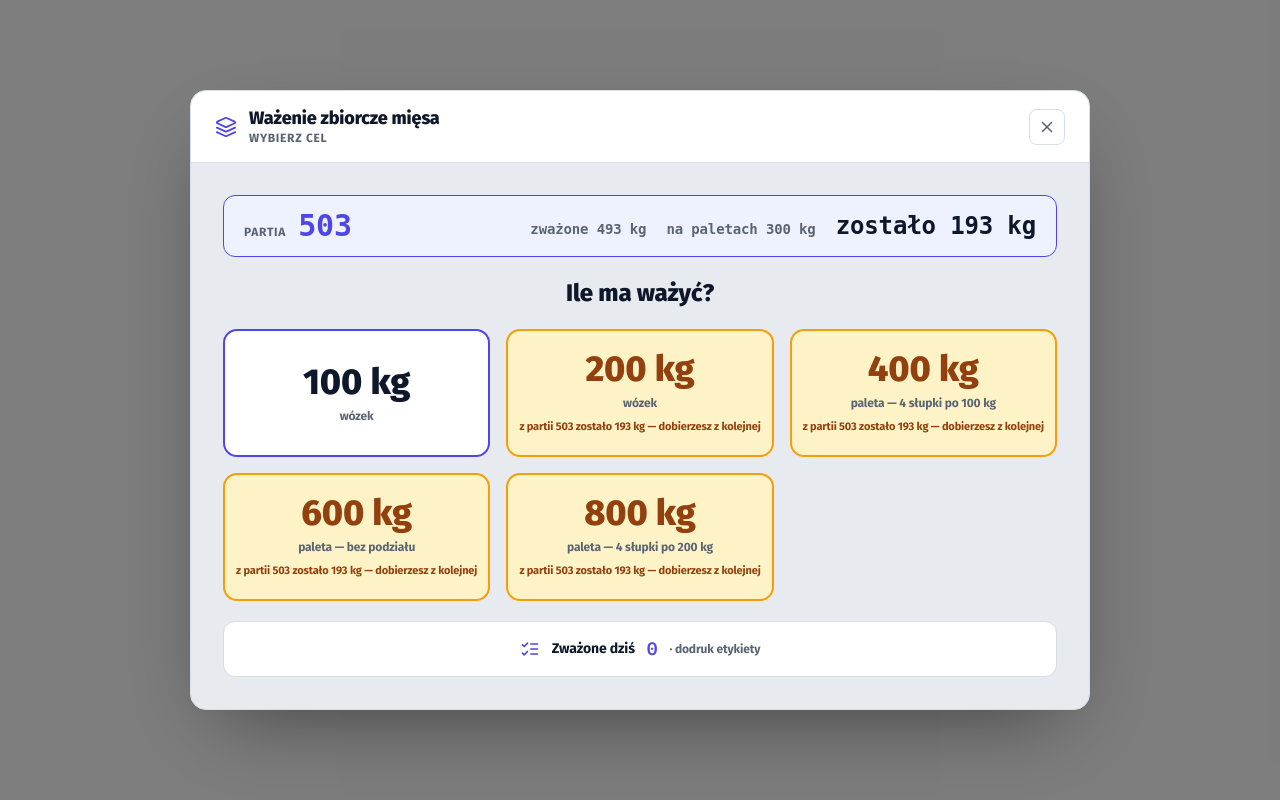
Test: ważenie zbiorcze — widoczny strażnik partii › anulowanie pytania zostawia operatora przy wyborze celu
Expected: the text "503" is shown, [298,208,352,244]
Step 1. Click the button that starts with "400 kg" → point(923, 393), box [790,329,1057,457]
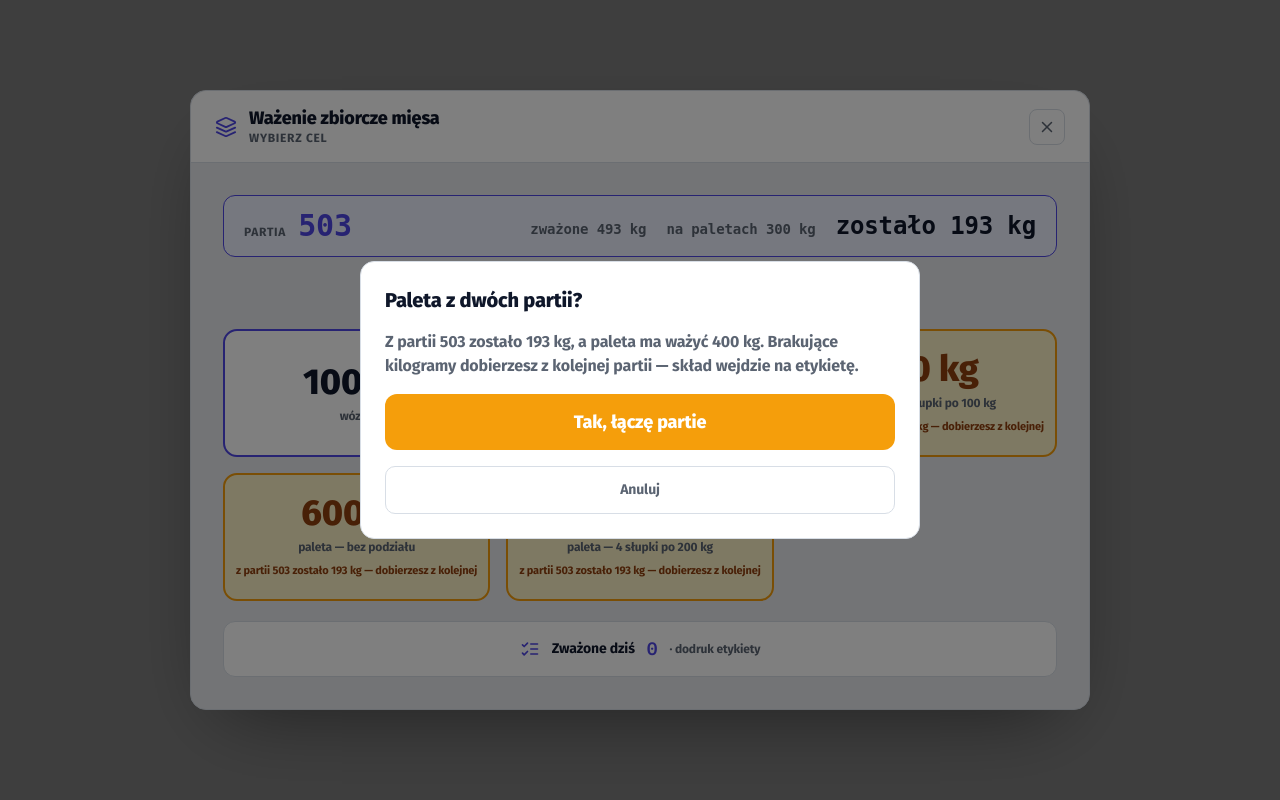
Step 2. Click the button with test id "bw-cel-anuluj" → point(640, 490), box [385,466,895,514]
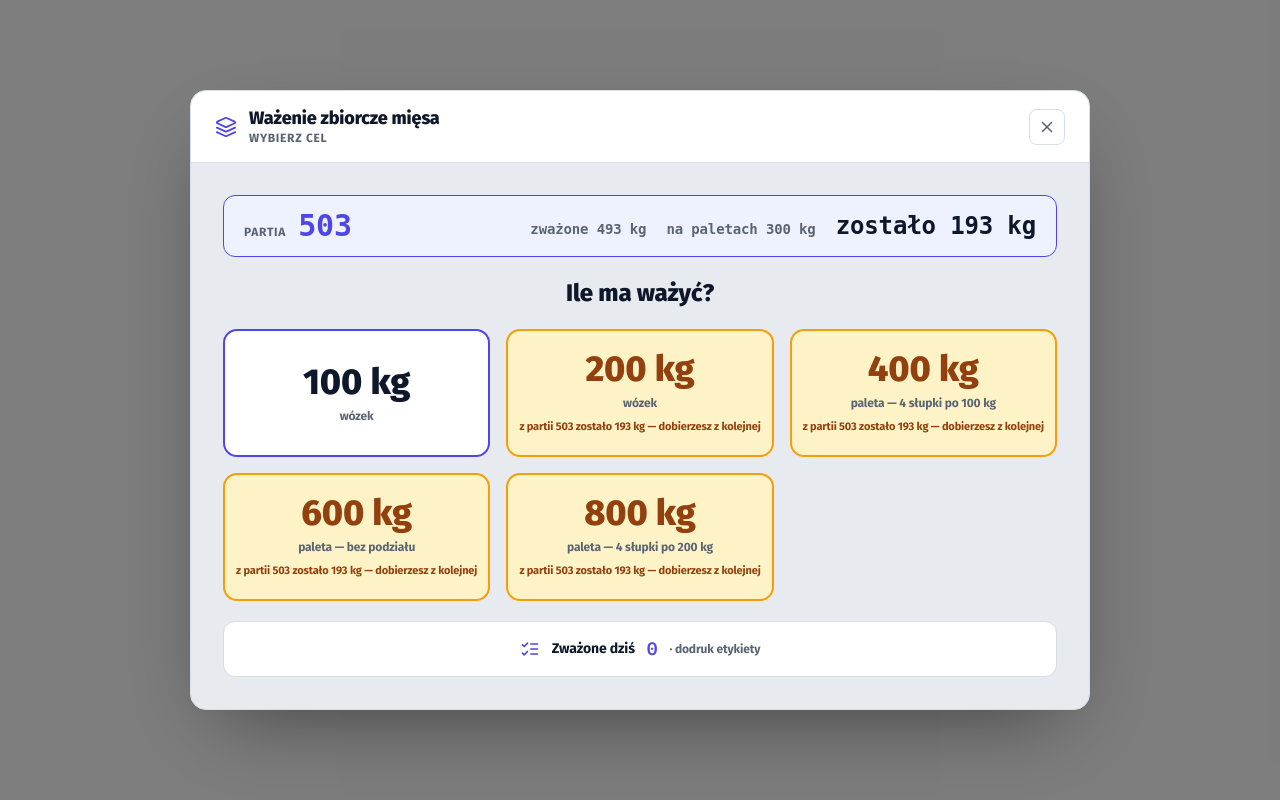
Now the text with test id "bw-cel-pytanie" is gone
